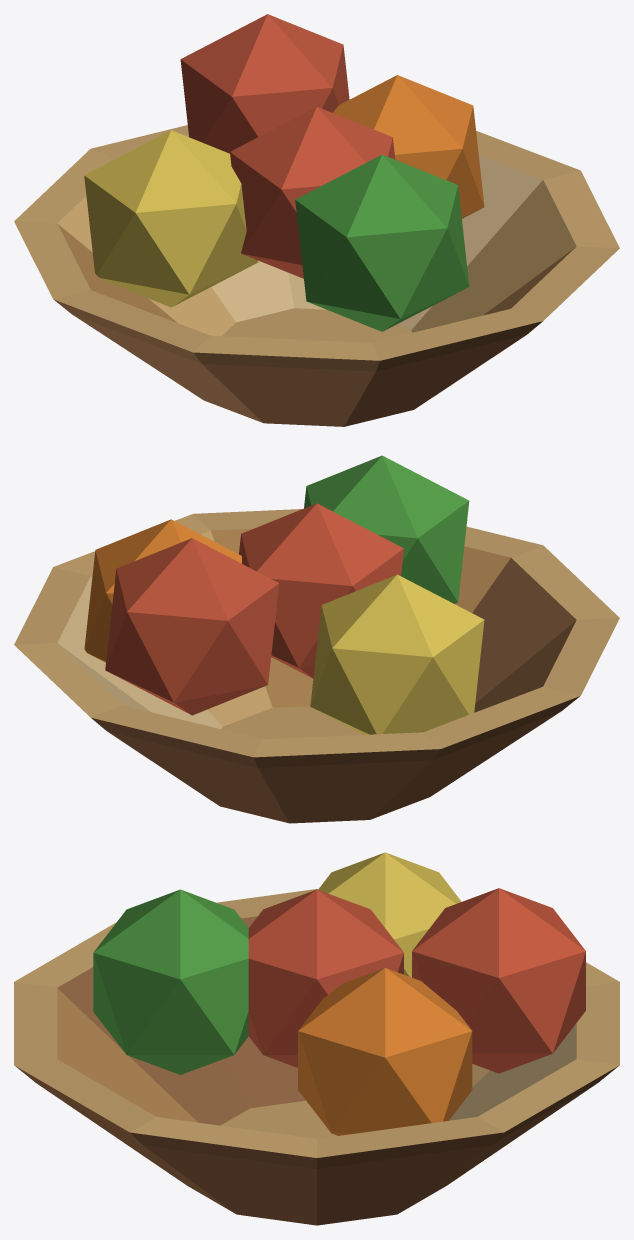
Rendered from fruit_bowl.glb.
The picture shows the model from 3 angles, top to bottom: view 1: azimuth 30°, elevation 25°; view 2: azimuth 150°, elevation 25°; view 3: azimuth 270°, elevation 25°; orthographic projection. The views are drawn at different scales.
Parts seen in each view (by area): view 1: fruit_bowl; view 2: fruit_bowl; view 3: fruit_bowl.
Part boxes in pixels (bbox=[...]): fruit_bowl: bbox=[14, 14, 619, 426]; fruit_bowl: bbox=[14, 455, 619, 823]; fruit_bowl: bbox=[14, 852, 619, 1225].
Bounding box in the file's own units: 0.28 × 0.145 × 0.2663.
